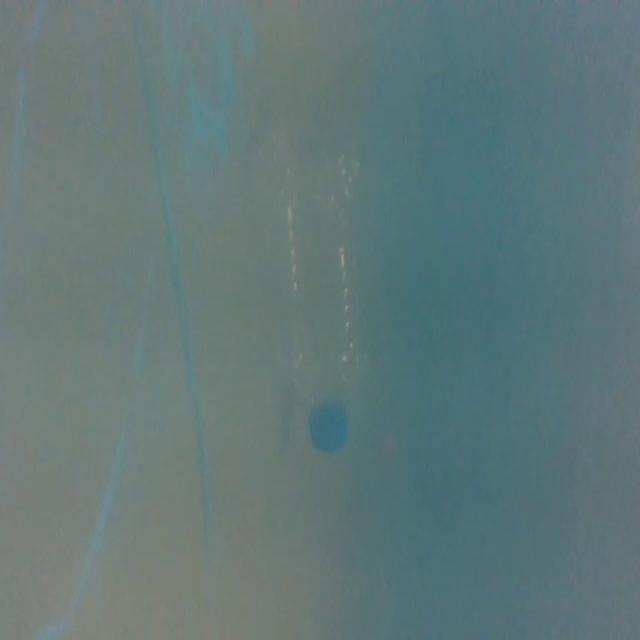plastic bottle: (247, 128, 377, 459)
